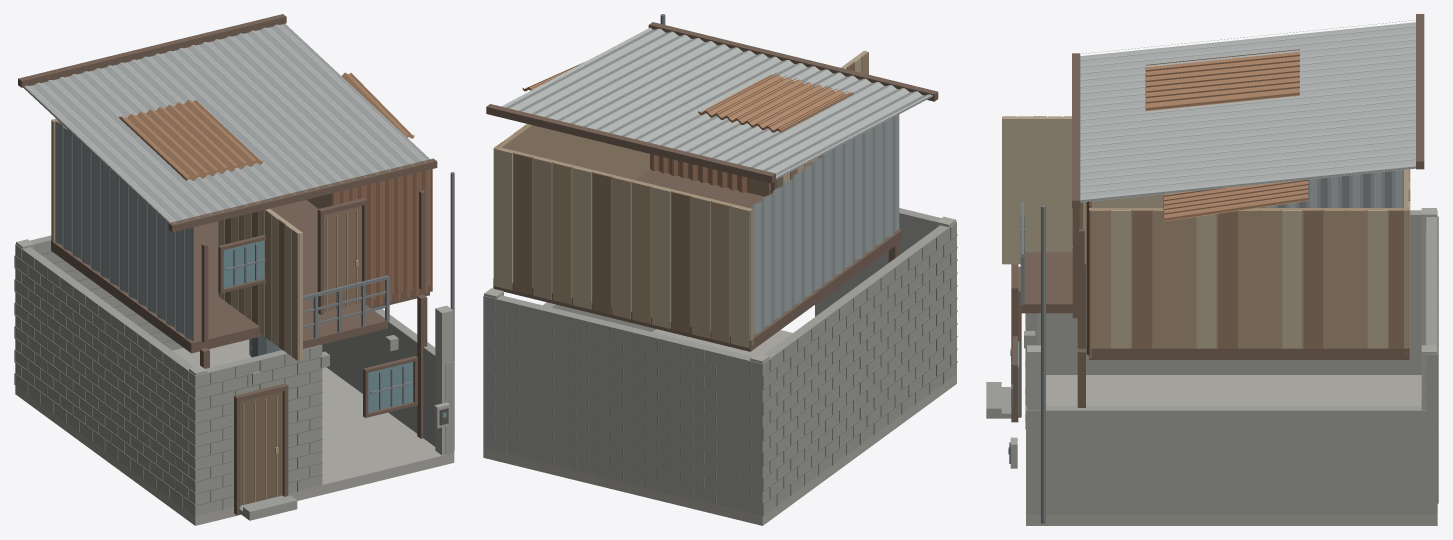
Rendered from SH10_Incrementally_Expanded_House.glb.
3 renders of one model, left to right at view 1: azimuth 30°, elevation 25°; view 2: azimuth 150°, elevation 25°; view 3: azimuth 270°, elevation 25°, orthographic. The views are drawn at different scales.
Visible parts, largest first — view 1: 492_Main_asymmetric_roof_sheet, 218_Left_lower_concrete, 421_Upper_left, 001_Concrete_floor, 002_Front_lower_left_concrete, 406_Upper_floor, 420_Upper_front_right, 495_Main_asymmetric_roof_patch, 398_Right_lower_partial, 456_Lower_door_door, 493_Main_asymmetric_roof_front_fascia, 494_Main_asymmetric_roof_back_fascia (+25 smaller); view 2: 068_Rear_lower_concrete, 492_Main_asymmetric_roof_sheet, 218_Left_lower_concrete, 421_Upper_left, 001_Concrete_floor, 406_Upper_floor, 495_Main_asymmetric_roof_patch, 422_Upper_right_backing, 494_Main_asymmetric_roof_back_fascia, 438_Upper_rear_backing, 441_Upper_rear_plank_03, 442_Upper_rear_plank_04 (+15 smaller); view 3: 398_Right_lower_partial, 492_Main_asymmetric_roof_sheet, 001_Concrete_floor, 407_Upper_front_left_backing, 218_Left_lower_concrete, 495_Main_asymmetric_roof_patch, 422_Upper_right_backing, 406_Upper_floor, 496_Side_roof_extension, 068_Rear_lower_concrete, 421_Upper_left, 424_Upper_right_plank_02 (+26 smaller).
Boxes of the visible parts, x1,y1,x2,y2 form: 492_Main_asymmetric_roof_sheet: (23,24,429,223); 218_Left_lower_concrete: (15,244,203,515); 421_Upper_left: (55,122,193,341); 001_Concrete_floor: (15,339,454,525); 002_Front_lower_left_concrete: (198,344,322,516); 406_Upper_floor: (51,200,429,353); 420_Upper_front_right: (332,169,432,307); 495_Main_asymmetric_roof_patch: (119,100,262,180); 398_Right_lower_partial: (322,309,454,454); 456_Lower_door_door: (240,391,282,505); 493_Main_asymmetric_roof_front_fascia: (168,158,437,232); 494_Main_asymmetric_roof_back_fascia: (18,14,286,87); 068_Rear_lower_concrete: (483,295,767,516); 492_Main_asymmetric_roof_sheet: (501,27,932,179); 218_Left_lower_concrete: (753,222,956,512); 421_Upper_left: (751,114,899,334); 001_Concrete_floor: (483,329,956,525); 406_Upper_floor: (493,169,901,351); 495_Main_asymmetric_roof_patch: (698,73,853,132); 422_Upper_right_backing: (495,124,649,179); 494_Main_asymmetric_roof_back_fascia: (486,104,775,183); 438_Upper_rear_backing: (494,146,753,345); 441_Upper_rear_plank_03: (691,196,710,338); 442_Upper_rear_plank_04: (671,191,690,333); 398_Right_lower_partial: (1026,406,1437,514); 492_Main_asymmetric_roof_sheet: (1076,20,1415,202); 001_Concrete_floor: (1026,375,1437,525); 407_Upper_front_left_backing: (1002,117,1163,264); 218_Left_lower_concrete: (1046,210,1437,374); 495_Main_asymmetric_roof_patch: (1145,49,1299,111); 422_Upper_right_backing: (1089,208,1409,347); 406_Upper_floor: (1089,348,1409,359); 496_Side_roof_extension: (1163,179,1308,221); 068_Rear_lower_concrete: (1426,210,1437,514); 421_Upper_left: (1259,170,1403,207); 424_Upper_right_plank_02: (1367,210,1387,348).
Bounding box in the file's own units: 5.33 × 5.79 × 6.48.
